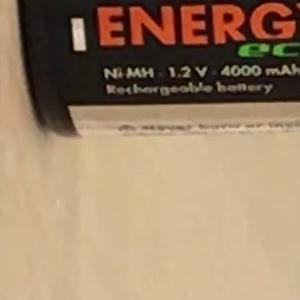NIMH: (95, 59, 161, 87)
